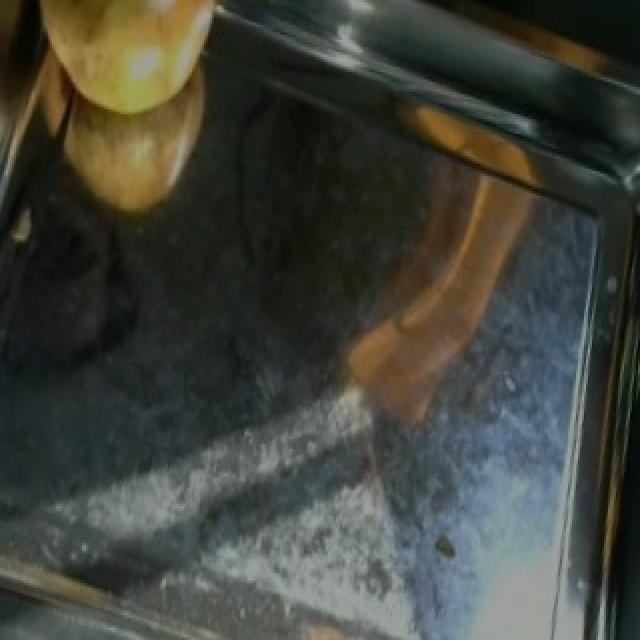fruit: (24, 0, 248, 141)
